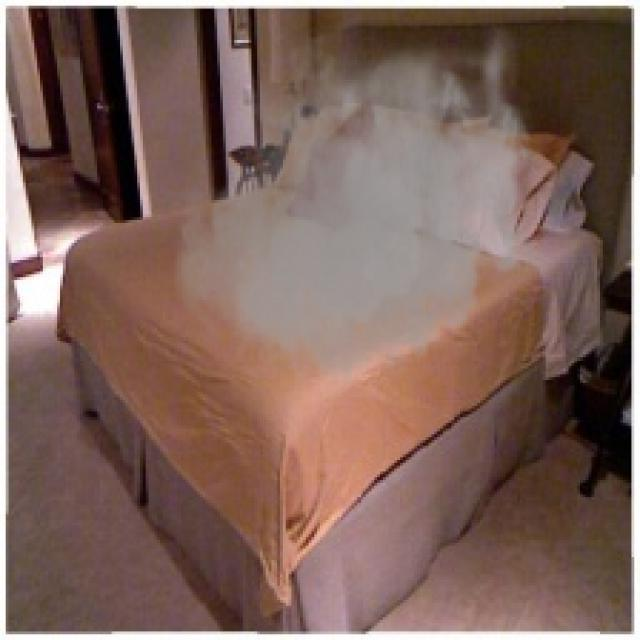Smoke: (162, 11, 548, 403)
